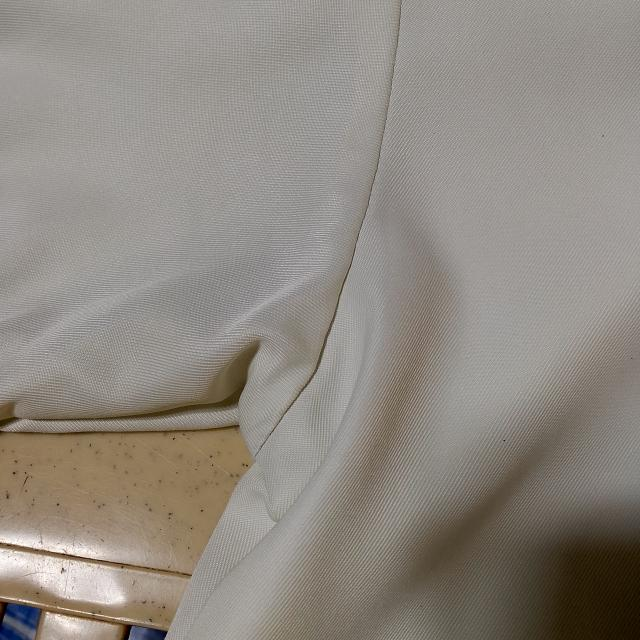education_male_uniform: (1, 6, 580, 601)
